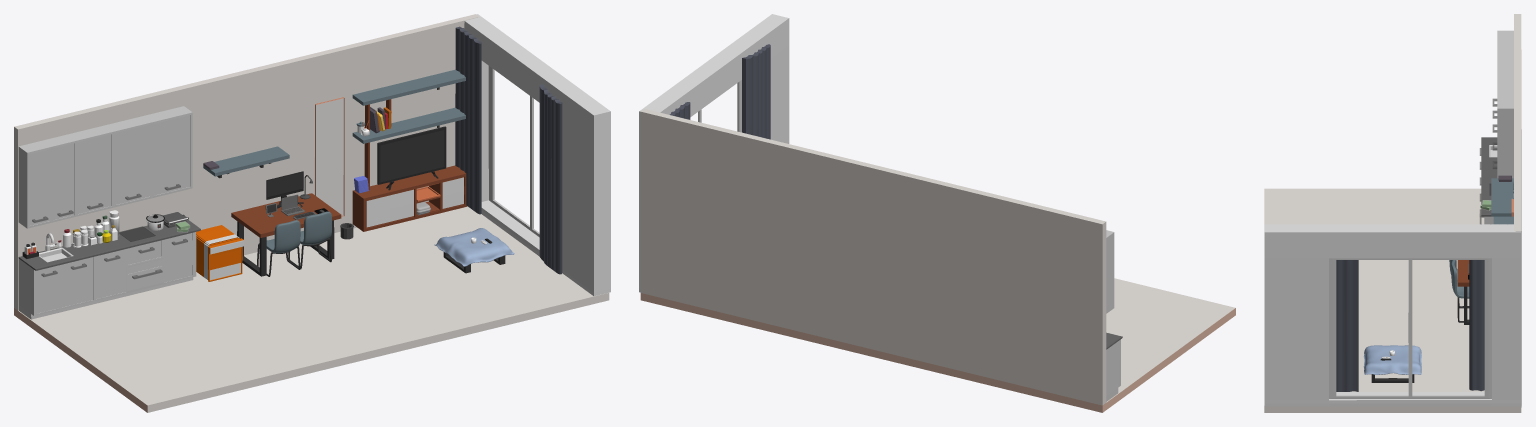
Rendered from MyStudio.glb.
3 views of the same model, side by side, from view 1: azimuth 30°, elevation 25°; view 2: azimuth 150°, elevation 25°; view 3: azimuth 270°, elevation 25° (orthographic). The views are drawn at different scales.
Parts seen in each view (by area): view 1: Walls; view 2: Walls; view 3: Walls.
Boxes of the visible parts, x1,y1,x2,y2 form: Walls: (14,14,610,412); Walls: (639,14,1235,412); Walls: (1264,14,1521,412).
Bounding box in the file's own units: 8.06 × 3.13 × 4.02.
